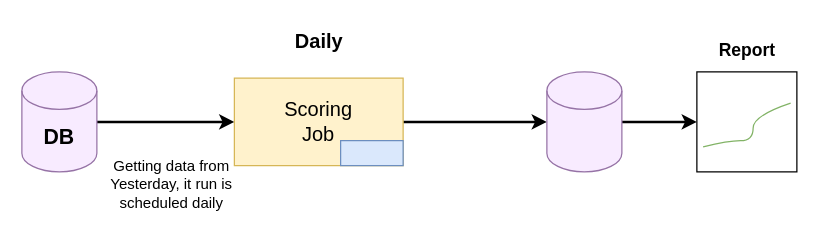
This 819x243 diagram has some shape labels left out. Here are the shapes that lost their labels. From the top down, the centre of each, then its label:
At point (584, 121): "Pred.".
At point (371, 152): "model".
